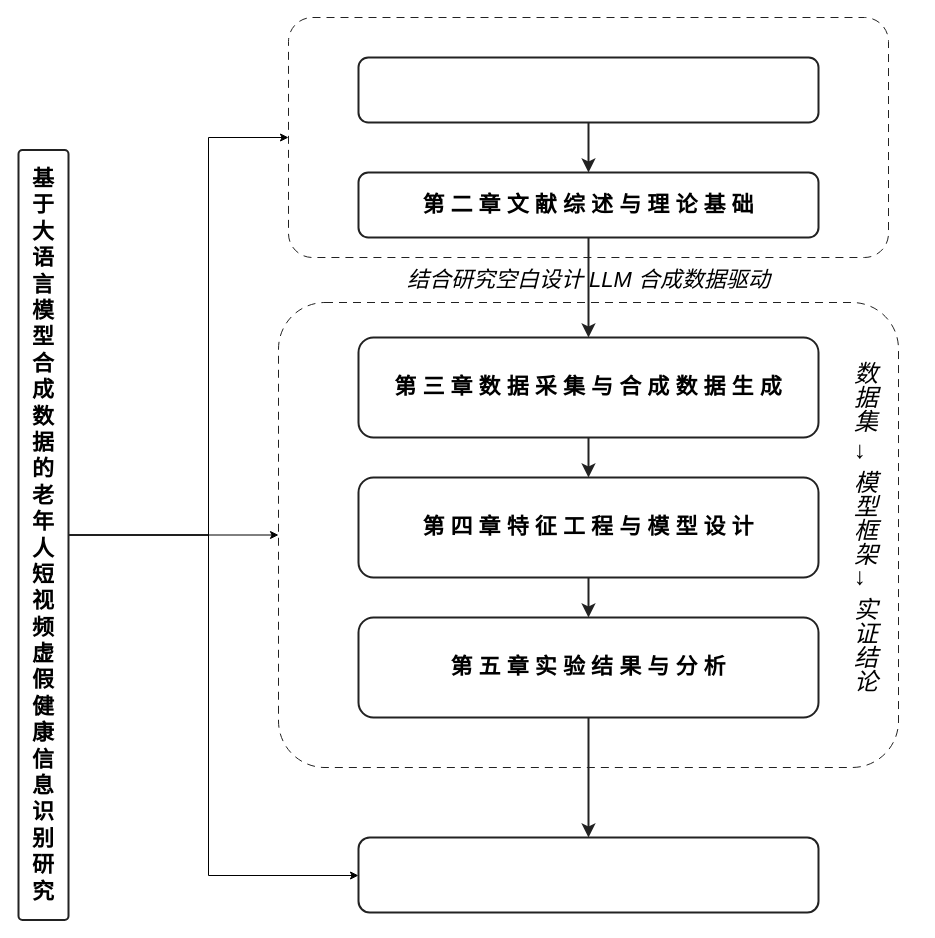
Image size: 935x938. Some labels were removed from this diagram. Each missing label, with the box of its shape:
第 一 章 绪 论: (357, 56, 819, 123)
第 六 章 全 文 总 结 与 未 来 展 望: (357, 836, 819, 913)
